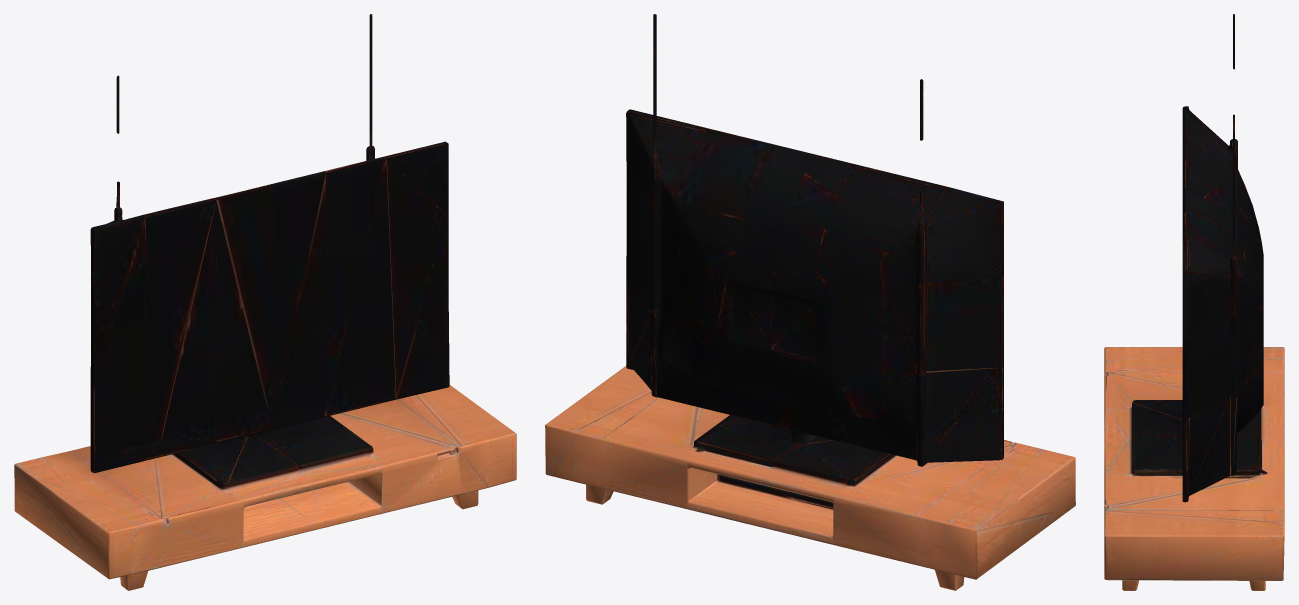
The picture shows the model from 3 angles, left to right: view 1: azimuth 30°, elevation 25°; view 2: azimuth 150°, elevation 25°; view 3: azimuth 270°, elevation 25°; orthographic projection. The views are drawn at different scales.
Bounding box in the file's own units: 1.77 × 1.91 × 0.7123.
Materials: 1 (1 with a texture image).
